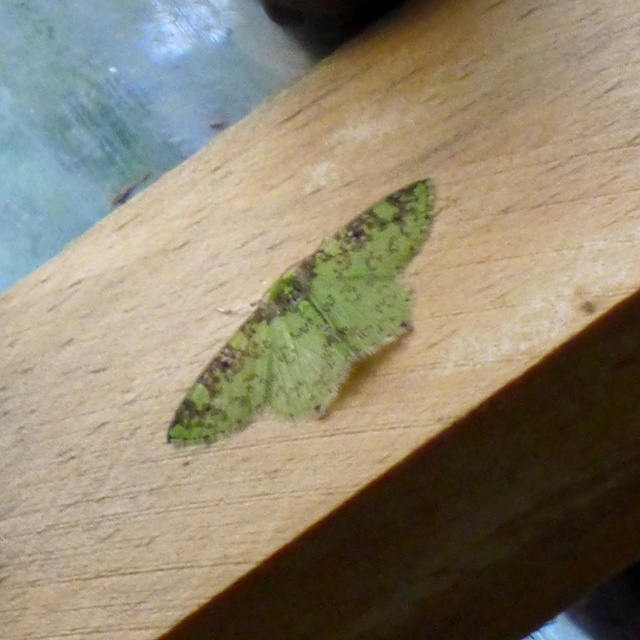Butterfly: (202, 155, 430, 463)
